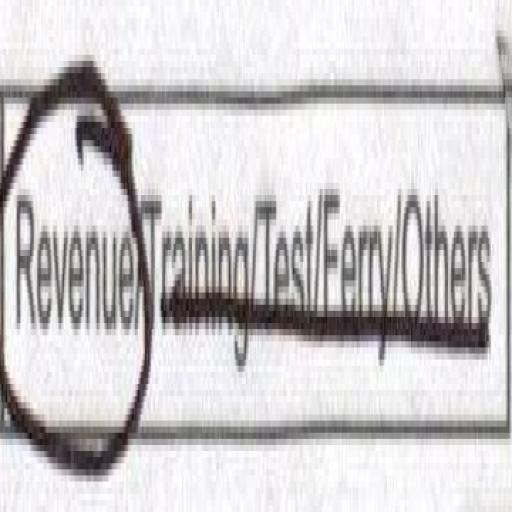check: (0, 17, 142, 511)
